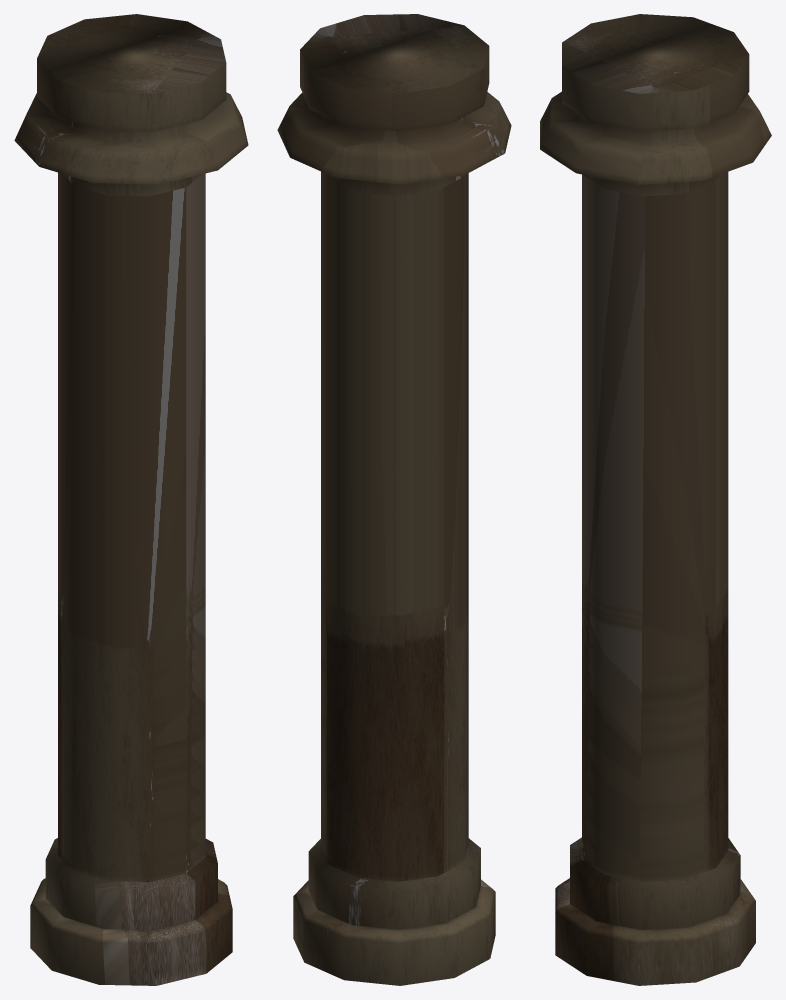
The model's file is PILAR.fbx.
3 views of the same model, side by side, from view 1: azimuth 30°, elevation 25°; view 2: azimuth 150°, elevation 25°; view 3: azimuth 270°, elevation 25° (orthographic).
Parts seen in each view (by area): view 1: Cylinder; view 2: Cylinder; view 3: Cylinder.
Part boxes in pixels (x1,y1,x2,y2): Cylinder: (14, 14, 248, 985); Cylinder: (277, 14, 511, 985); Cylinder: (540, 14, 771, 985).
Bounding box in the file's own units: 314 × 1315 × 311.
